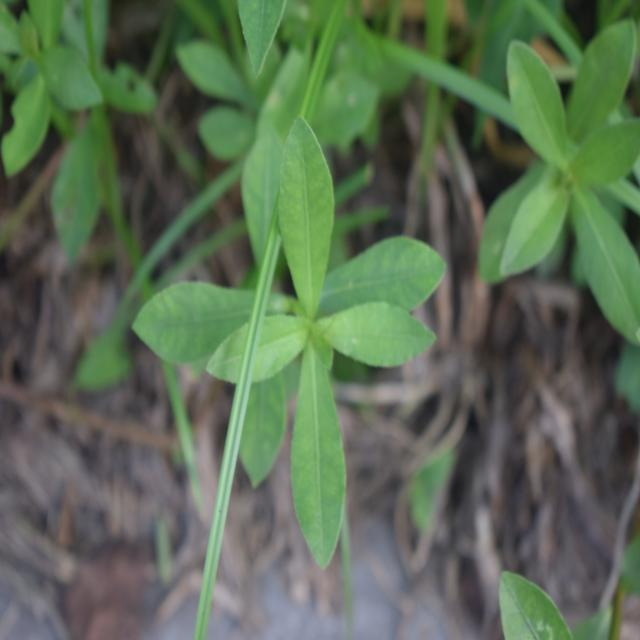Alligatorweed: (137, 142, 423, 556), (495, 21, 640, 341)
